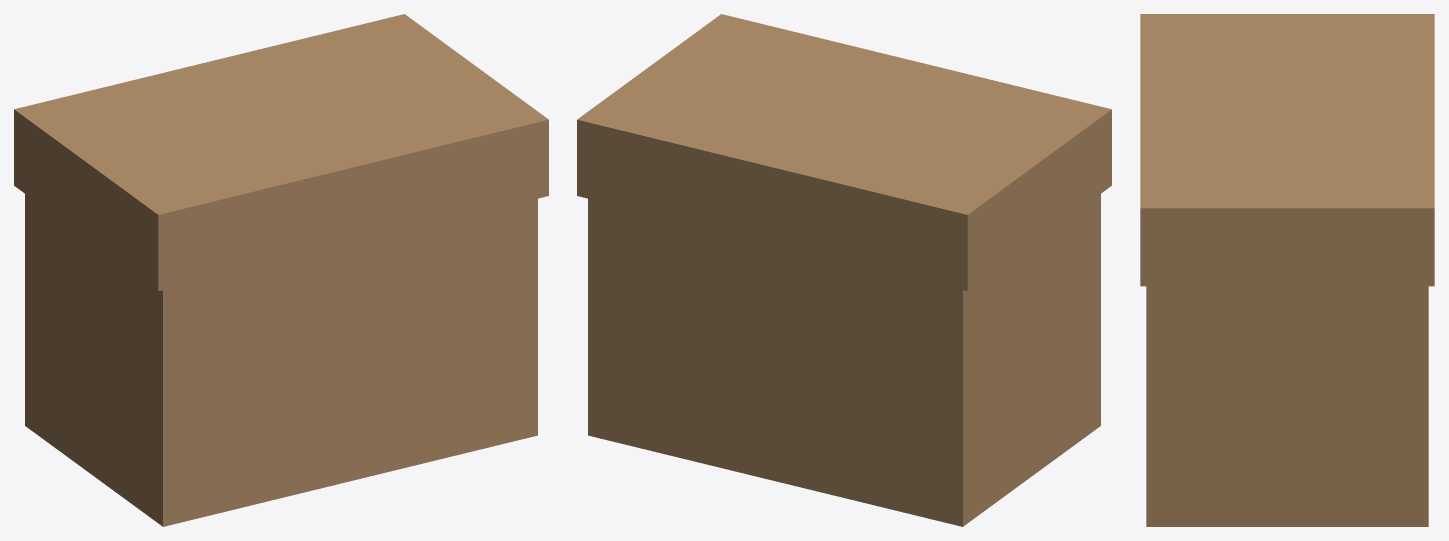
File: Chest.glb
3 views of the same model, side by side, from view 1: azimuth 30°, elevation 25°; view 2: azimuth 150°, elevation 25°; view 3: azimuth 270°, elevation 25° (orthographic).
Visible parts, largest first — view 1: filler_Chest; view 2: filler_Chest; view 3: filler_Chest.
Boxes of the visible parts, box(x1,y1,x2,y2) form: filler_Chest: box(14, 14, 548, 526); filler_Chest: box(577, 14, 1111, 526); filler_Chest: box(1140, 14, 1434, 526).
Bounding box in the file's own units: 0.75 × 0.58 × 0.48.
